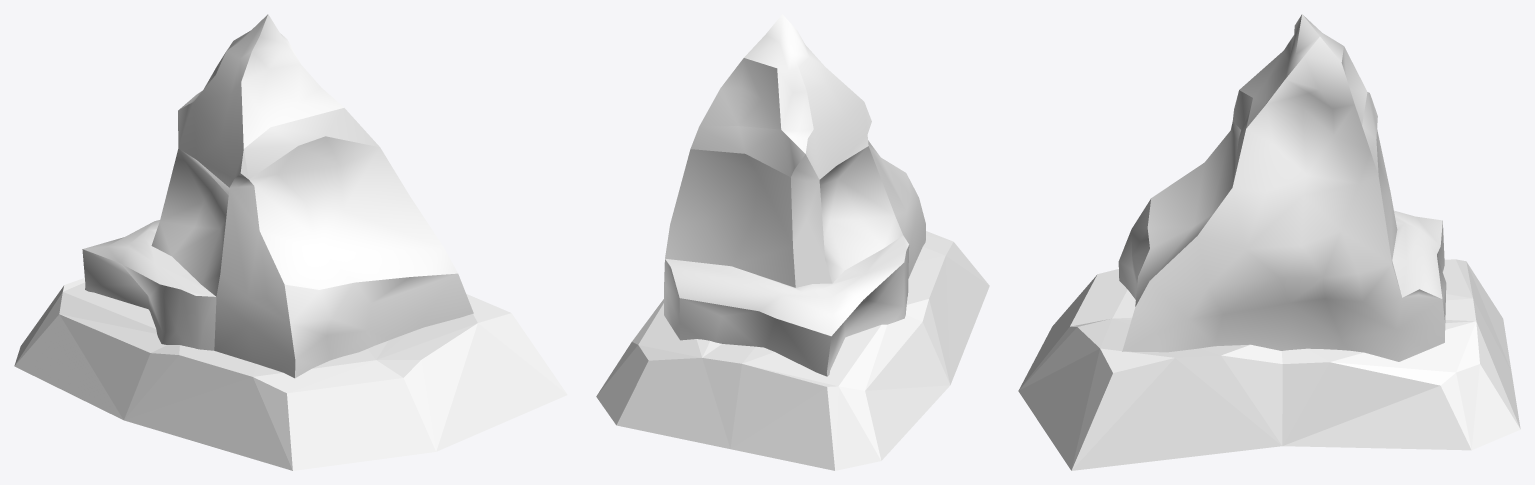
File: SM_VolcanicFlats_ObsidianDeposit_2.fbx
The picture shows the model from 3 angles, left to right: view 1: azimuth 30°, elevation 25°; view 2: azimuth 150°, elevation 25°; view 3: azimuth 270°, elevation 25°; orthographic projection. The views are drawn at different scales.
Parts seen in each view (by area): view 1: SM_Obsidian; view 2: SM_Obsidian; view 3: SM_Obsidian.
Boxes of the visible parts, x1,y1,x2,y2 form: SM_Obsidian: (14, 14, 567, 470); SM_Obsidian: (596, 14, 989, 470); SM_Obsidian: (1018, 14, 1520, 470).
Bounding box in the file's own units: 476 × 453 × 541.
